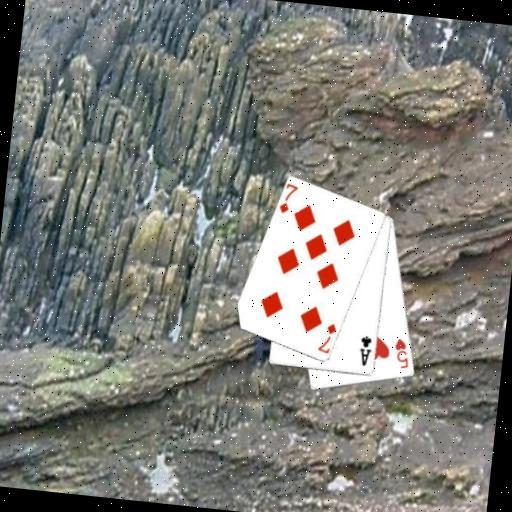5H: (390, 335, 412, 371)
7D: (315, 319, 339, 356), (276, 180, 300, 217)
AC: (355, 333, 375, 369)
